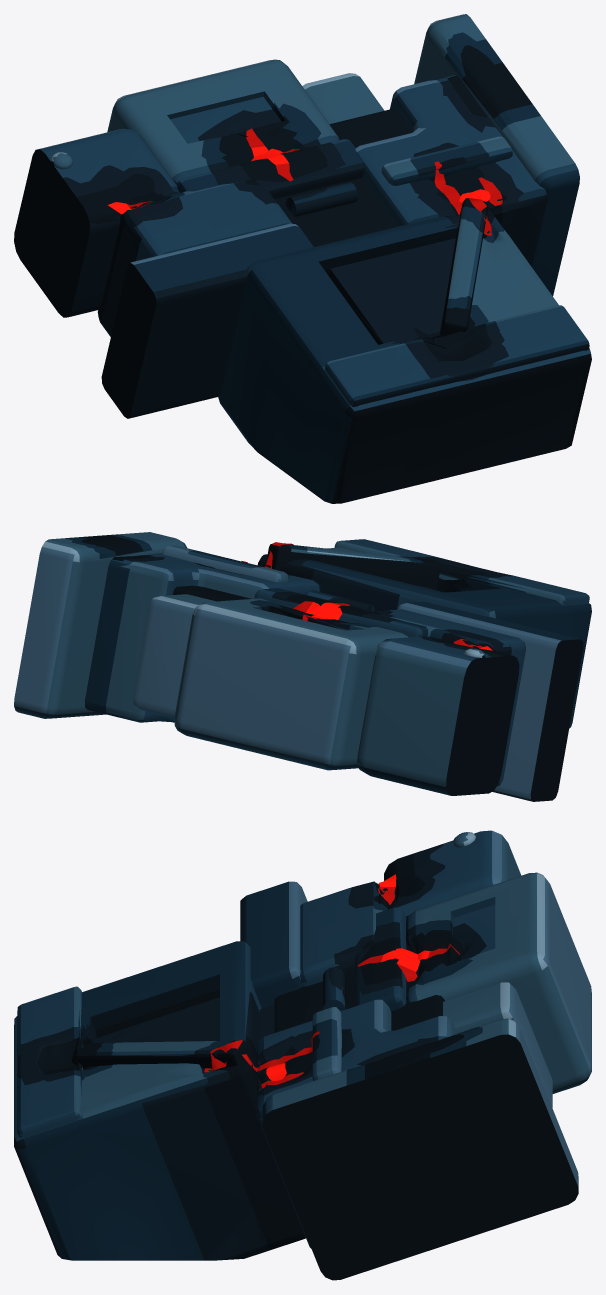
File: deli_cannon_l_mount_wreck.glb
3 views of the same model, one above another, from view 1: azimuth 30°, elevation 25°; view 2: azimuth 150°, elevation 25°; view 3: azimuth 270°, elevation 25° (orthographic). The views are drawn at different scales.
Visible parts, largest first — view 1: trunnion.001, ledge.001, hull.001, sight.001, lower_box.001, rear_block.001, base_strip.001, lower_block.001, core.001, sight_base.001, strut.001, rail.001 (+3 smaller); view 2: sight.001, hull.001, rear_block.001, lower_box.001, ledge.001, trunnion.001, small_box.001, strut.001, base_strip.001, lower_block.001, sight_base.001, rail.001 (+3 smaller); view 3: trunnion.001, rear_block.001, sight.001, base_strip.001, lower_box.001, hull.001, ledge.001, lower_block.001, strut.001, sight_base.001, small_box.001, core.001 (+3 smaller).
Boxes of the visible parts, left/top/right/bottom form: trunnion.001: left=218, top=209, right=591, bottom=503; ledge.001: left=101, top=223, right=313, bottom=418; hull.001: left=14, top=128, right=179, bottom=317; sight.001: left=107, top=59, right=339, bottom=182; lower_box.001: left=355, top=75, right=547, bottom=266; rear_block.001: left=414, top=14, right=579, bottom=296; base_strip.001: left=325, top=305, right=589, bottom=406; lower_block.001: left=97, top=178, right=291, bottom=336; core.001: left=132, top=108, right=412, bottom=246; sight_base.001: left=177, top=139, right=365, bottom=198; strut.001: left=439, top=198, right=488, bottom=335; rail.001: left=381, top=136, right=512, bottom=185; sight.001: left=174, top=598, right=408, bottom=770; hull.001: left=356, top=636, right=519, bottom=795; rear_block.001: left=14, top=532, right=186, bottom=718; lower_box.001: left=85, top=553, right=320, bottom=722; ledge.001: left=398, top=601, right=583, bottom=801; trunnion.001: left=257, top=547, right=591, bottom=728; small_box.001: left=133, top=594, right=215, bottom=717; strut.001: left=267, top=543, right=440, bottom=589; base_strip.001: left=334, top=539, right=589, bottom=604; lower_block.001: left=370, top=609, right=525, bottom=786; sight_base.001: left=254, top=588, right=427, bottom=637; rail.001: left=162, top=545, right=288, bottom=582; trunnion.001: left=14, top=941, right=305, bottom=1260; rear_block.001: left=262, top=1018, right=578, bottom=1280; sight.001: left=406, top=872, right=591, bottom=1093; base_strip.001: left=17, top=986, right=83, bottom=1137; lower_box.001: left=257, top=999, right=456, bottom=1248; hull.001: left=384, top=830, right=521, bottom=916; ledge.001: left=240, top=881, right=307, bottom=1008; lower_block.001: left=300, top=881, right=389, bottom=986; strut.001: left=75, top=1040, right=257, bottom=1072; sight_base.001: left=355, top=907, right=406, bottom=1011; small_box.001: left=443, top=982, right=552, bottom=1107; core.001: left=274, top=891, right=444, bottom=1032.
Size of the model in its own units: 24 by 13.54 by 25.52.
